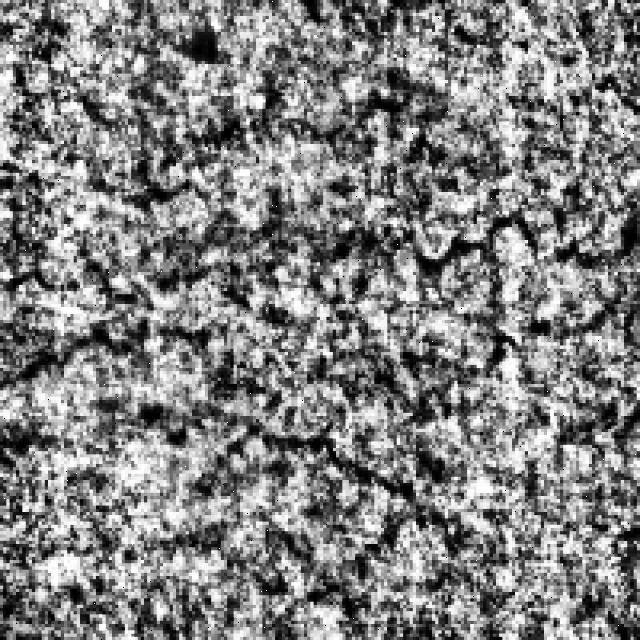Pitted_Surface: (320, 202, 637, 404), (218, 422, 458, 608), (7, 250, 292, 390)
